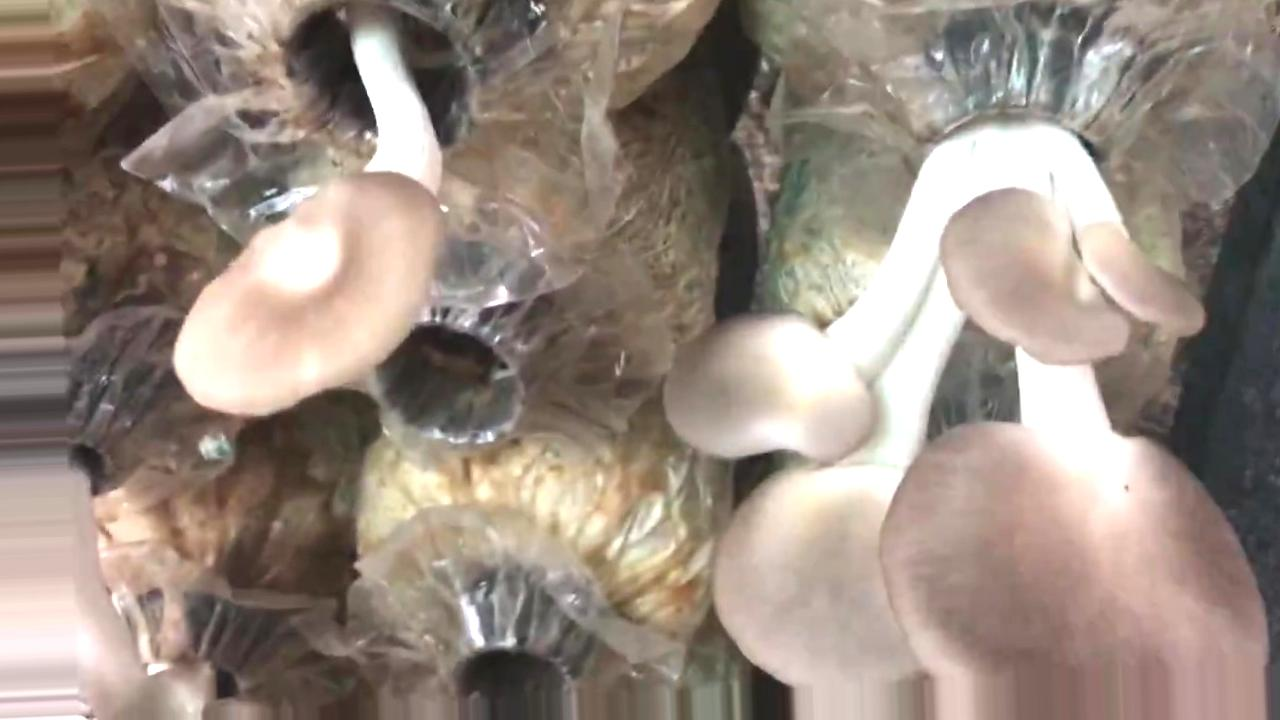nam: (666, 18, 1263, 720), (173, 1, 507, 418)
